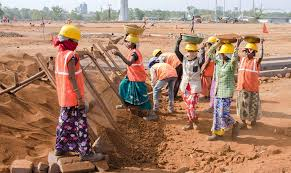hard hat: (60, 25, 81, 40), (218, 44, 235, 55), (125, 34, 140, 45), (243, 42, 260, 50), (184, 43, 199, 50)
safe person: (51, 24, 101, 160), (105, 24, 144, 108), (212, 33, 239, 135), (177, 33, 202, 129), (242, 34, 263, 126)
